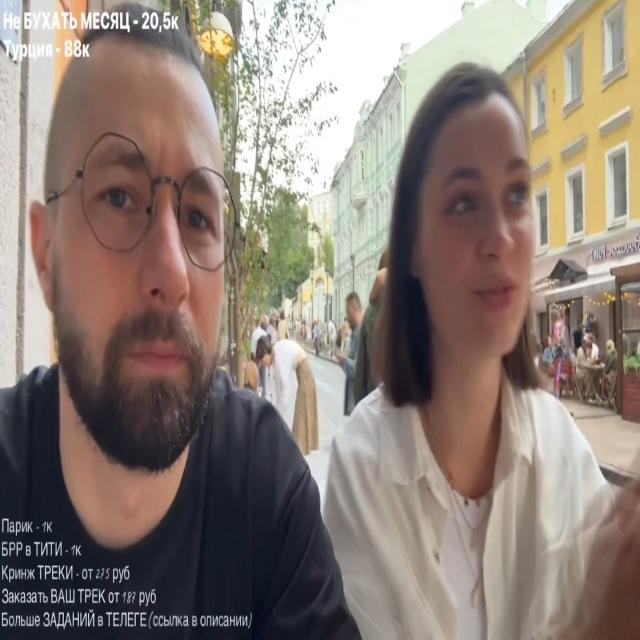Person: (0, 25, 366, 639), (301, 78, 638, 640), (337, 295, 372, 415), (574, 334, 600, 406), (312, 322, 323, 353)
